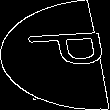P_E: (6, 34, 104, 76)
